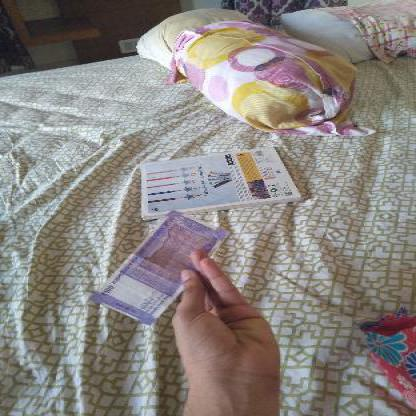New100Back: (96, 207, 224, 330)
